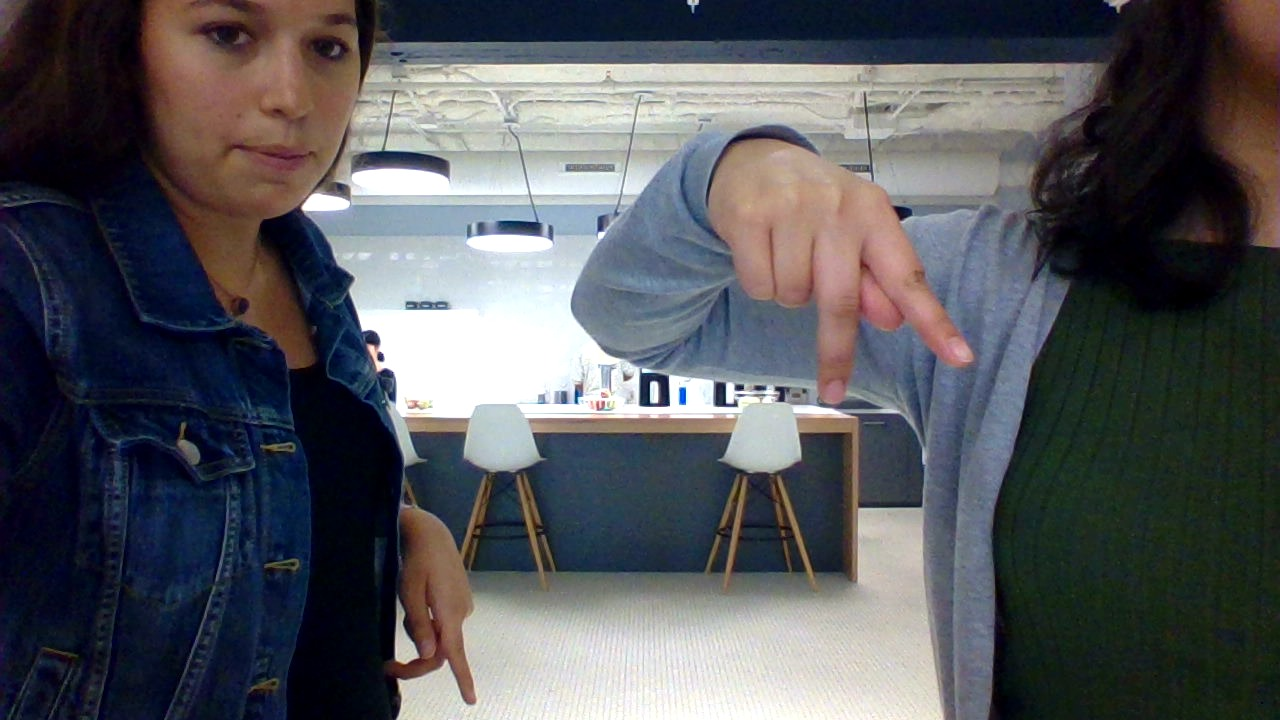p: (695, 113, 991, 419)
